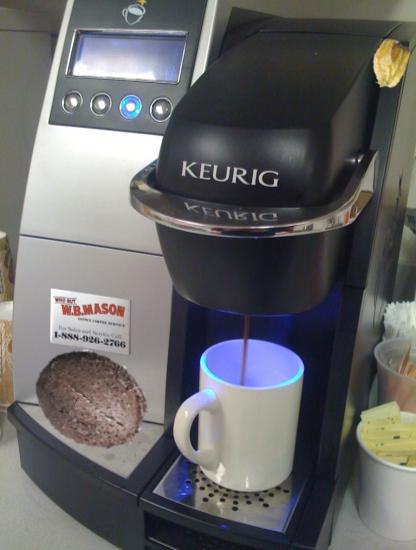Cocos: (32, 340, 151, 459)
Physalis: (364, 39, 416, 91)
